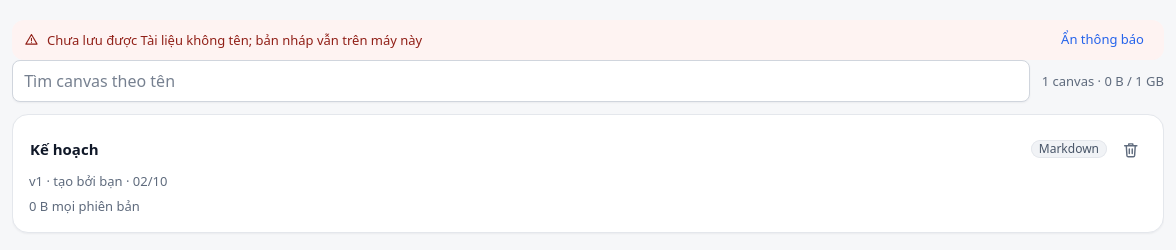
the canvas section of the manage screen › says above the library that a save left behind did not land, until the person puts the line away
Click the button "Ẩn thông báo".
click(1103, 40)  # box [1053, 28, 1152, 52]
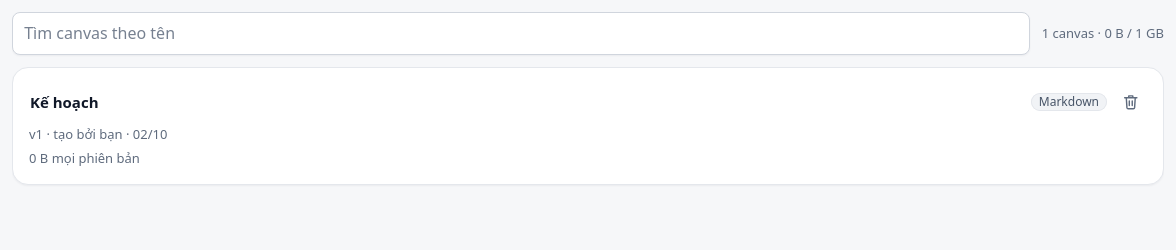
Expected: the message "Chưa lưu được Tài liệu không tên; bản nháp vẫn trên máy này Ẩn thông báo" is gone
